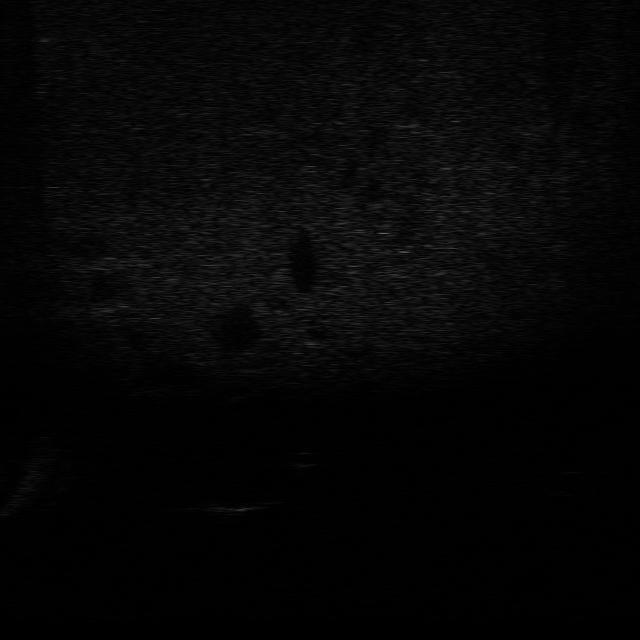ball: (275, 445, 324, 475)
square cage: (200, 491, 274, 524)
tyre: (546, 466, 596, 499)
